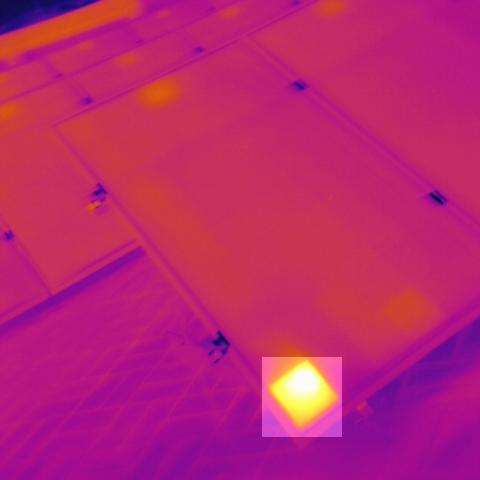fault: (262, 357, 342, 437)
